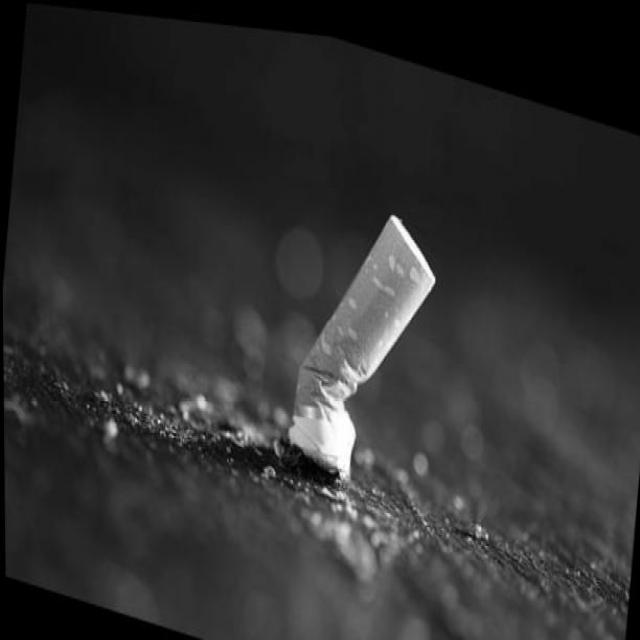cigarette: (281, 173, 448, 503)
